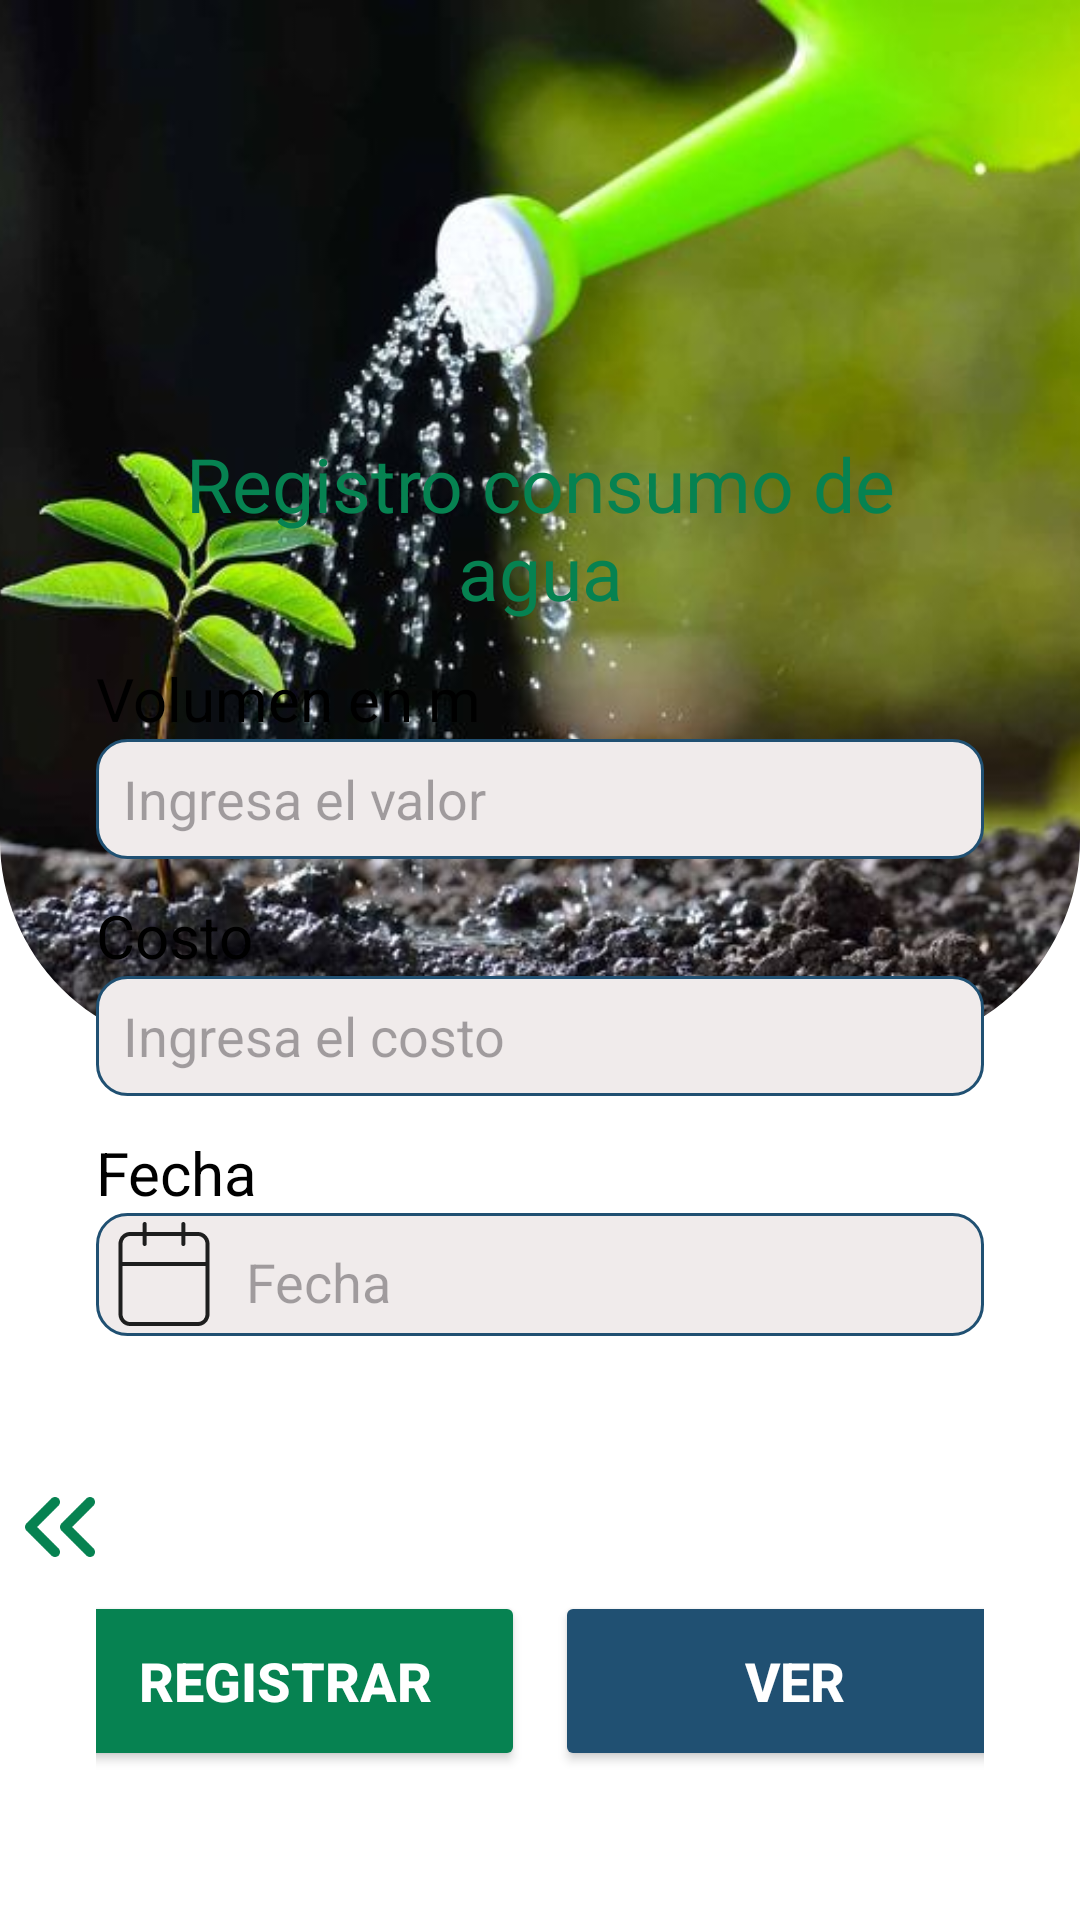

Locate icon controls on the screen. Image size 1080x1920, boxes as (x1, y1, x2, y2).
chevrons left: (25, 1497, 95, 1557)
